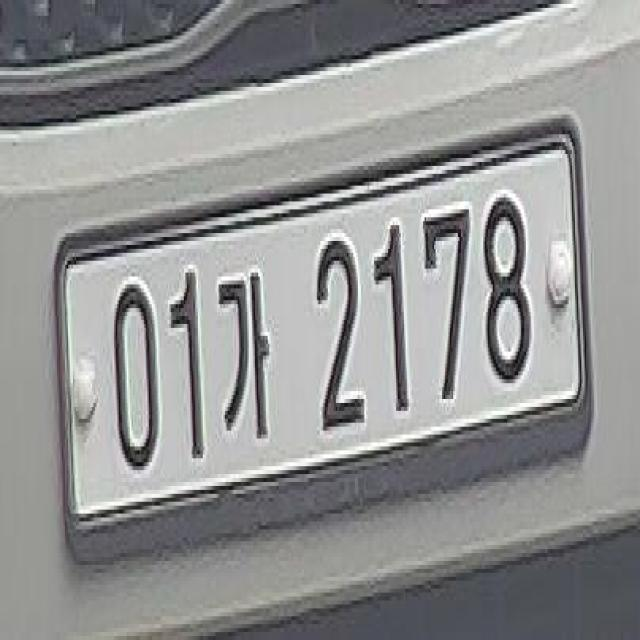illegal_plate: (55, 122, 603, 589)
